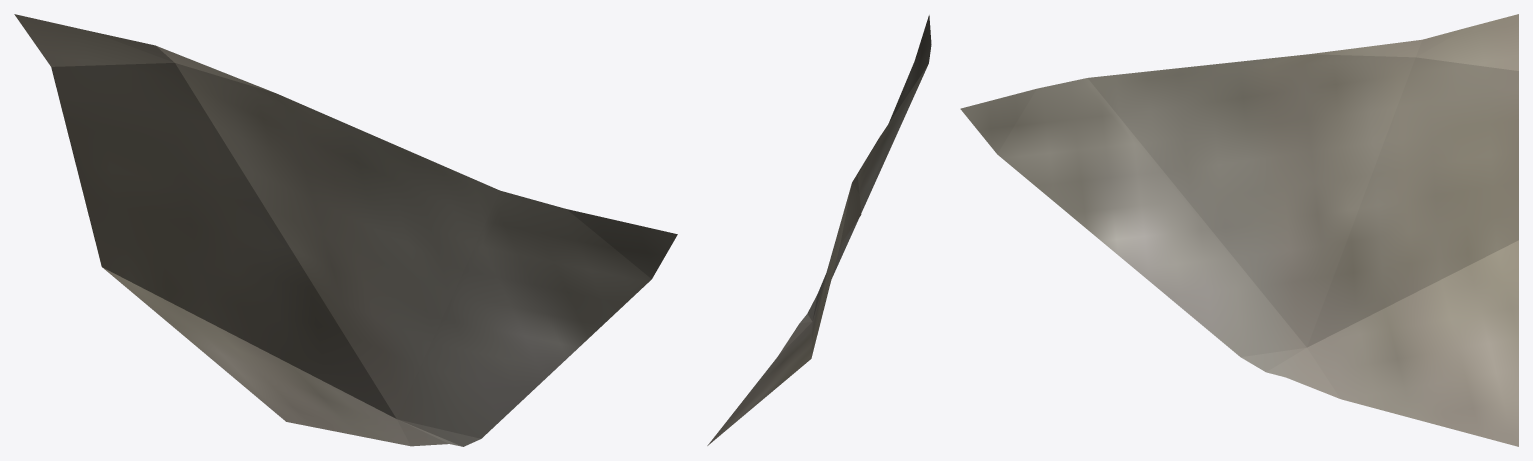
3 views of the same model, side by side, from view 1: azimuth 30°, elevation 25°; view 2: azimuth 150°, elevation 25°; view 3: azimuth 270°, elevation 25° (orthographic). The views are drawn at different scales.
Size of the model in its own units: 0.1611 by 0.2682 by 0.4015.
Materials: 1 (1 with a texture image).
